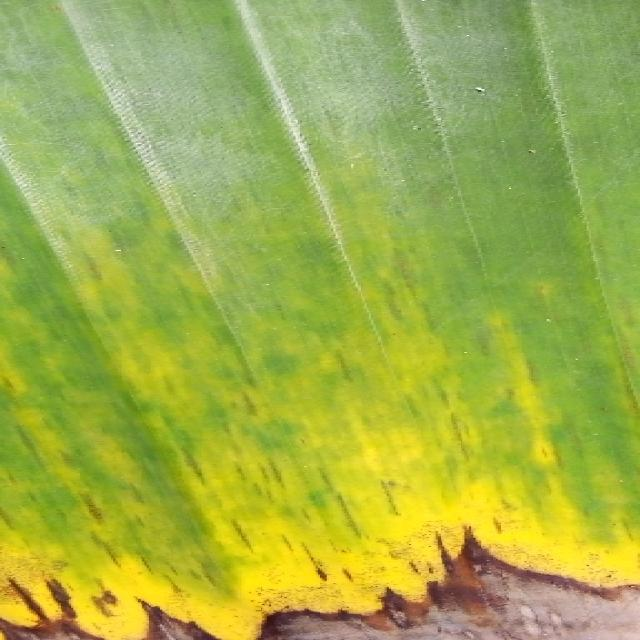Cordana: (2, 179, 640, 640)
